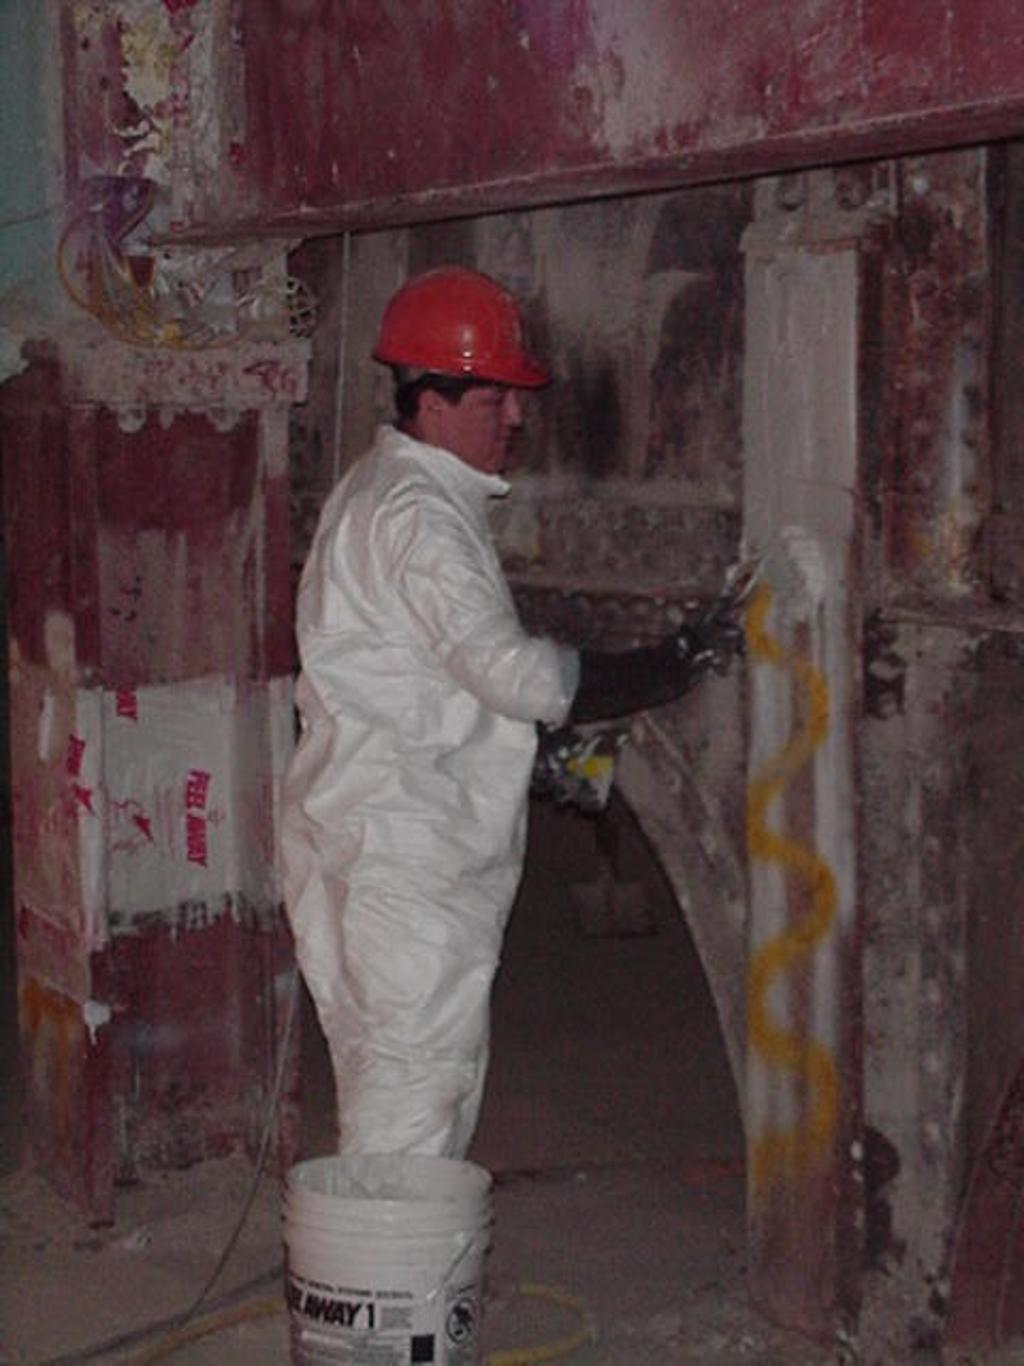face: (421, 328, 522, 464)
